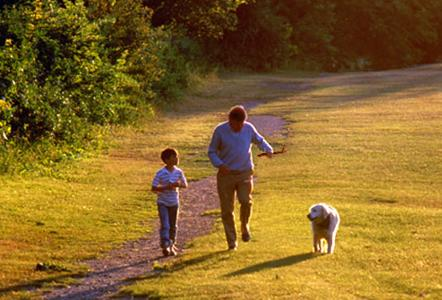person: (208, 107, 275, 249)
